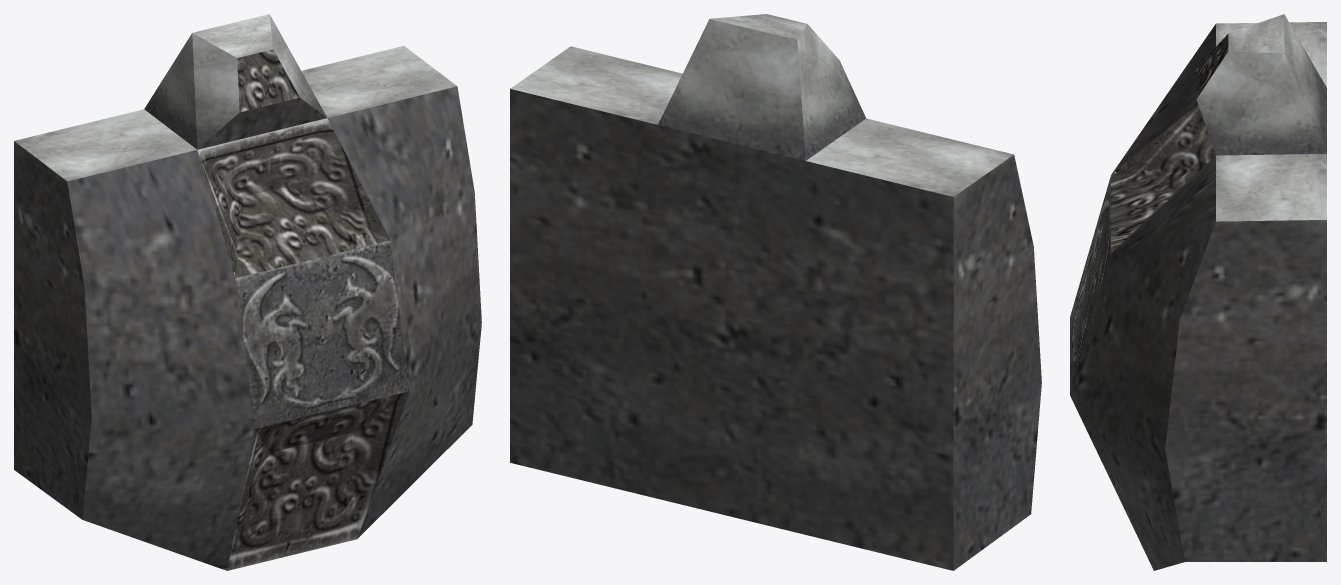
The picture shows the model from 3 angles, left to right: view 1: azimuth 30°, elevation 25°; view 2: azimuth 150°, elevation 25°; view 3: azimuth 270°, elevation 25°; orthographic projection. The views are drawn at different scales.
Parts seen in each view (by area): view 1: a17; view 2: a17; view 3: a17.
Boxes of the visible parts, box(x1,y1,x2,y2) form: a17: box(14, 14, 481, 570); a17: box(510, 14, 1041, 570); a17: box(1070, 14, 1326, 570).
Size of the model in its own units: 762 by 906 by 418.
